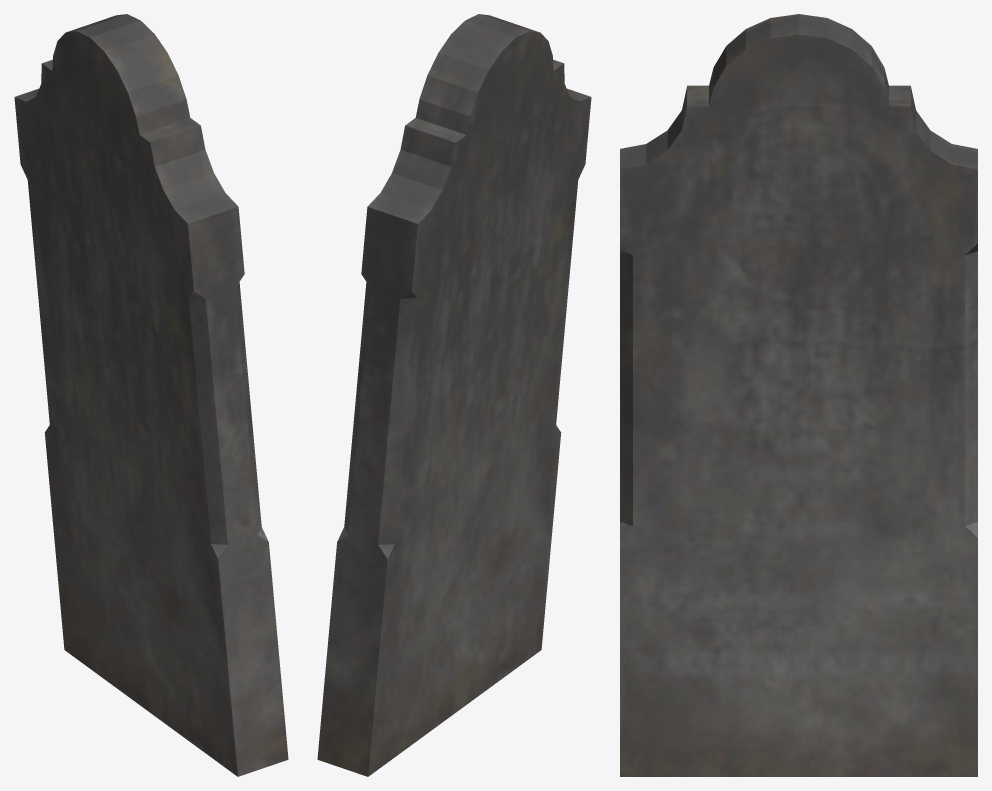
File: Cemetery_OBJ_Tombstone_06.fbx
The picture shows the model from 3 angles, left to right: view 1: azimuth 30°, elevation 25°; view 2: azimuth 150°, elevation 25°; view 3: azimuth 270°, elevation 25°; orthographic projection. The views are drawn at different scales.
Visible parts, largest first — view 1: Cemetery_OBJ_Tombstone_06; view 2: Cemetery_OBJ_Tombstone_06; view 3: Cemetery_OBJ_Tombstone_06.
Boxes of the visible parts, box(x1,y1,x2,y2) form: Cemetery_OBJ_Tombstone_06: box(14, 14, 288, 776); Cemetery_OBJ_Tombstone_06: box(317, 14, 591, 776); Cemetery_OBJ_Tombstone_06: box(620, 14, 977, 776).
Bounding box in the file's own units: 25.32 × 151 × 68.14.
1 material, 1 textured.
